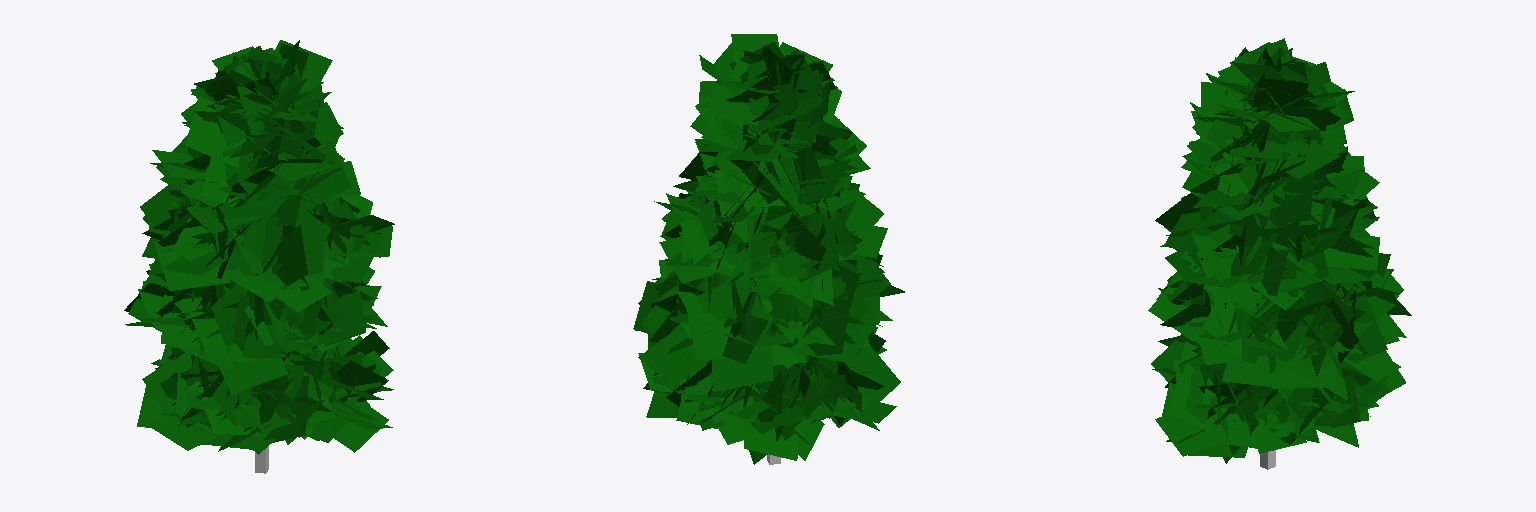
Rendered from treetest3.obj.
The picture shows the model from 3 angles: view 1: azimuth 30°, elevation 25°; view 2: azimuth 150°, elevation 25°; view 3: azimuth 270°, elevation 25°; orthographic projection.
Visible parts, largest first — view 1: leaves; view 2: leaves; view 3: leaves.
Part boxes in pixels (x1,y1,x2,y2): leaves: (124,40,394,454); leaves: (633,34,904,464); leaves: (1148,38,1411,463).
Size of the model in its own units: 2.13 by 3.69 by 2.1.